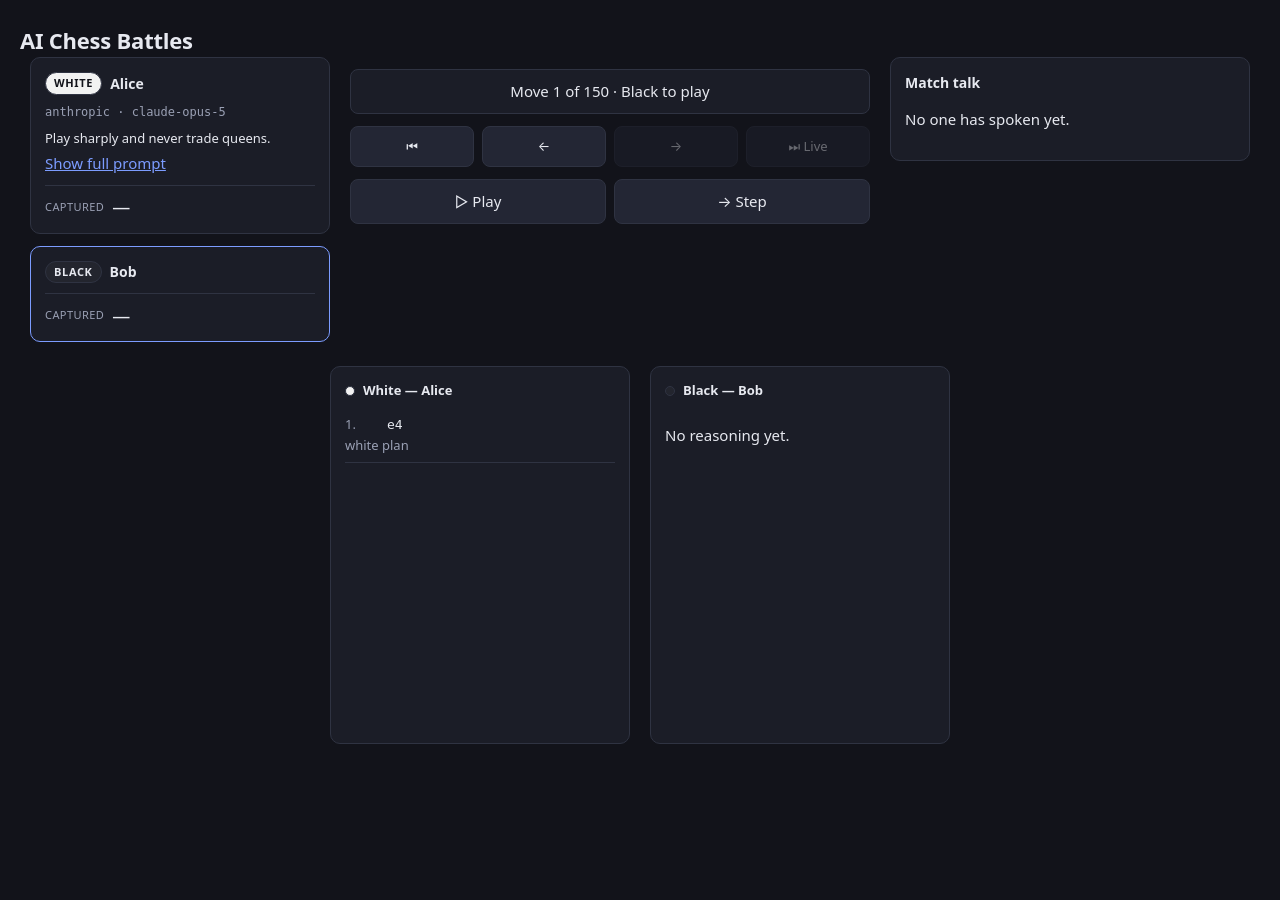
Scenario: MatchScreen colour identity › shows the raw prompt and expands it in place
Check: the text "Play sharply and never trade queens." is shown, box [45,128,270,146]
Click the button "Show full prompt".
click(105, 163)  # box [45,152,166,174]
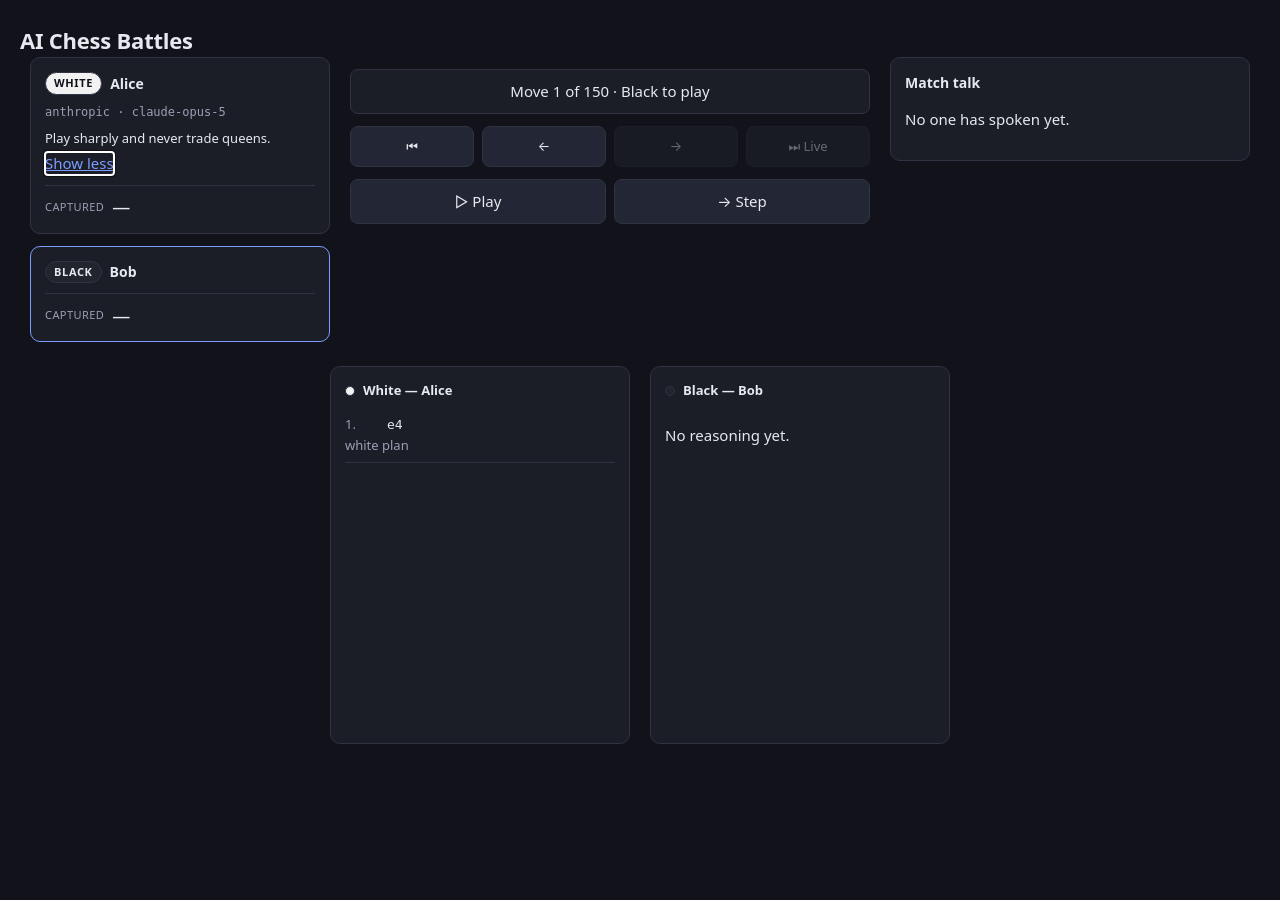
Check: the button "Show less" is shown, box [45,152,114,174]
